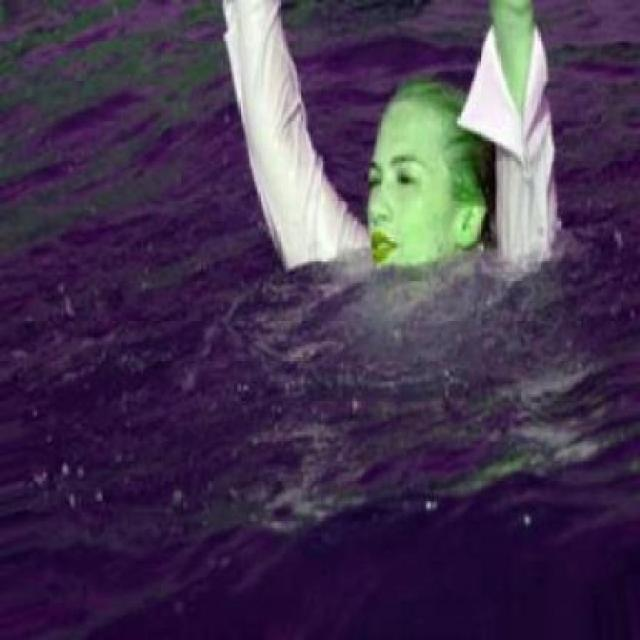drowning: (2, 4, 639, 640)
